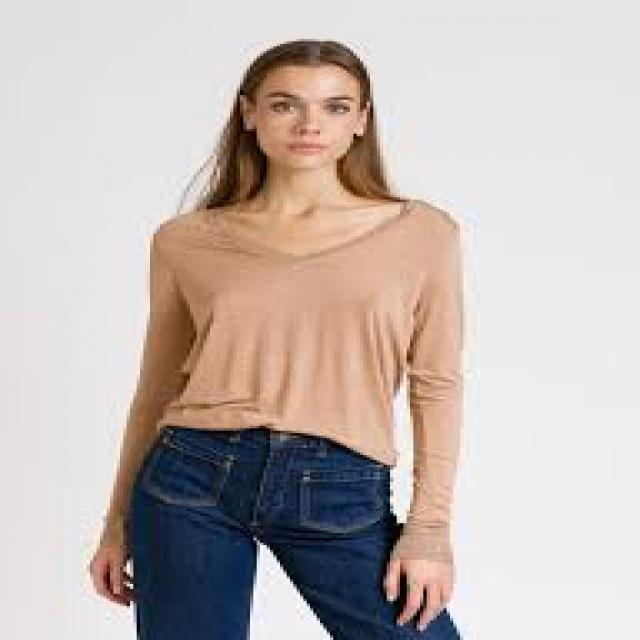plain: (53, 173, 513, 572)
